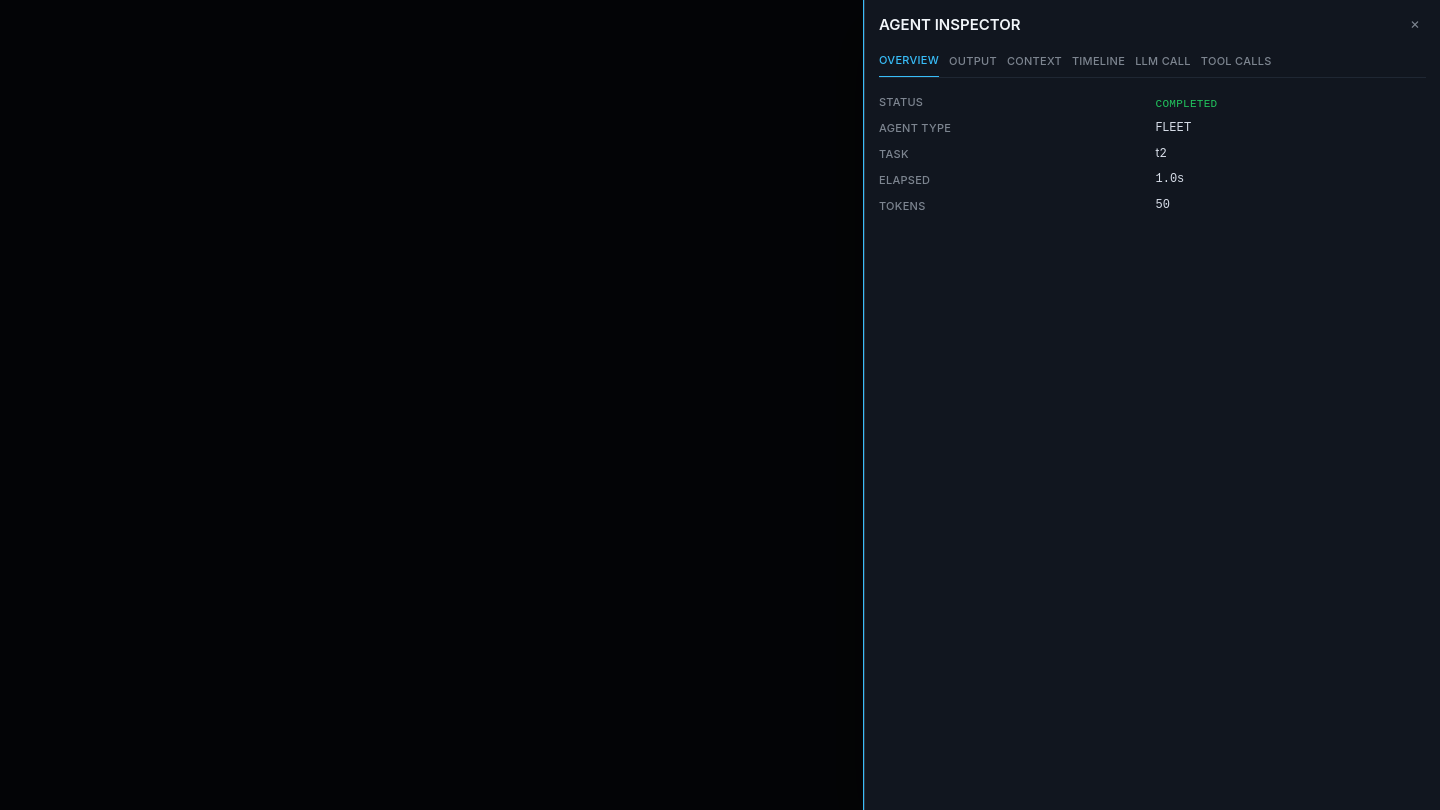
Test: AgentInspector OUTPUT tab › says so when the agent has no recommendation yet
Expected: the element with test id "overview-tab" is shown, [879, 95, 1217, 213]
Click the button "OUTPUT" at (973, 64), box [949, 50, 997, 77]
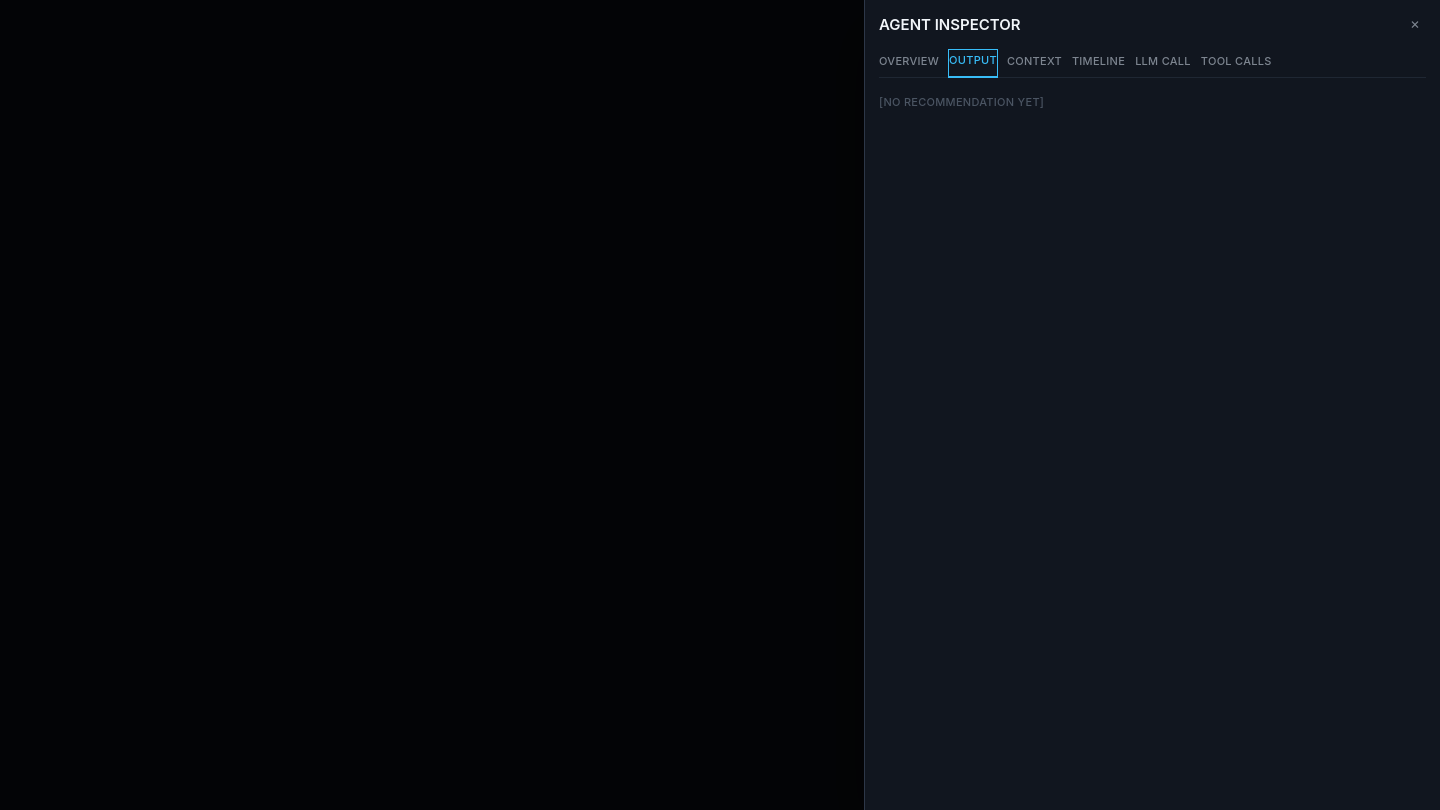
Now the text "[NO RECOMMENDATION YET]" is shown, box [879, 95, 1044, 109]
